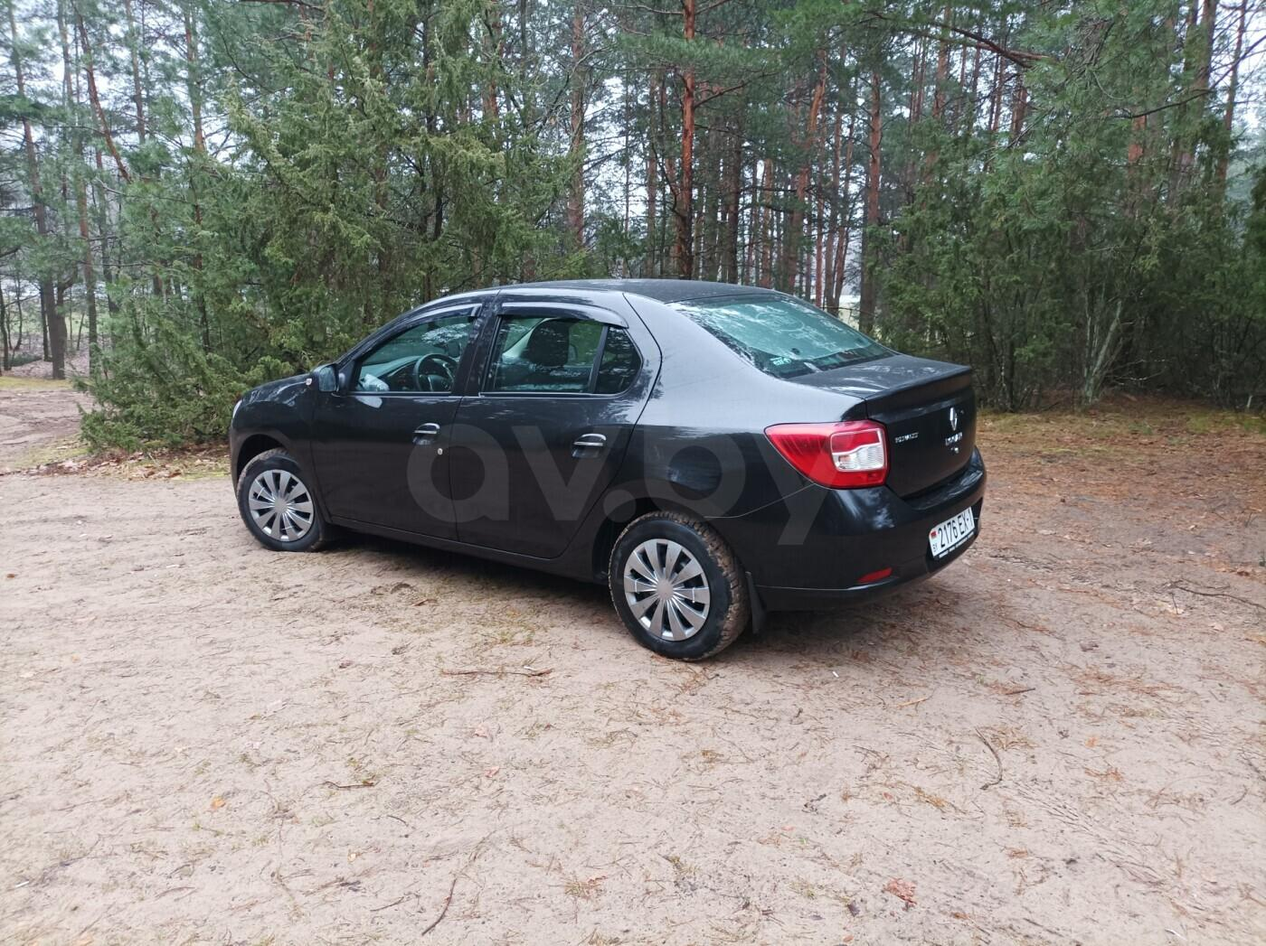Logan_2018: (222, 274, 987, 660)
